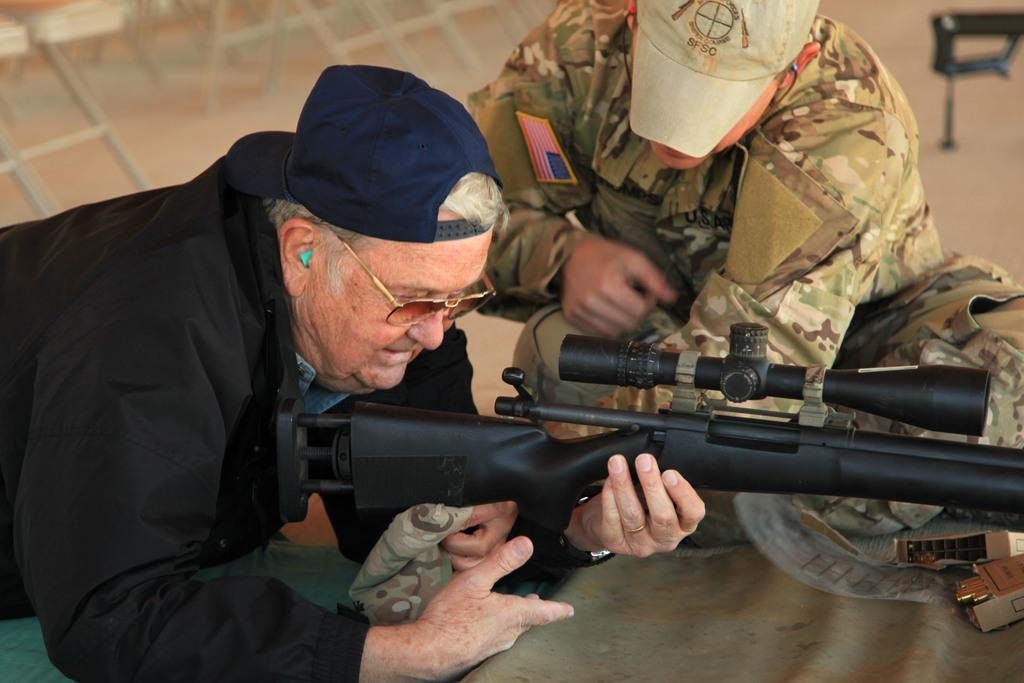Rifle: (220, 314, 1024, 607)
